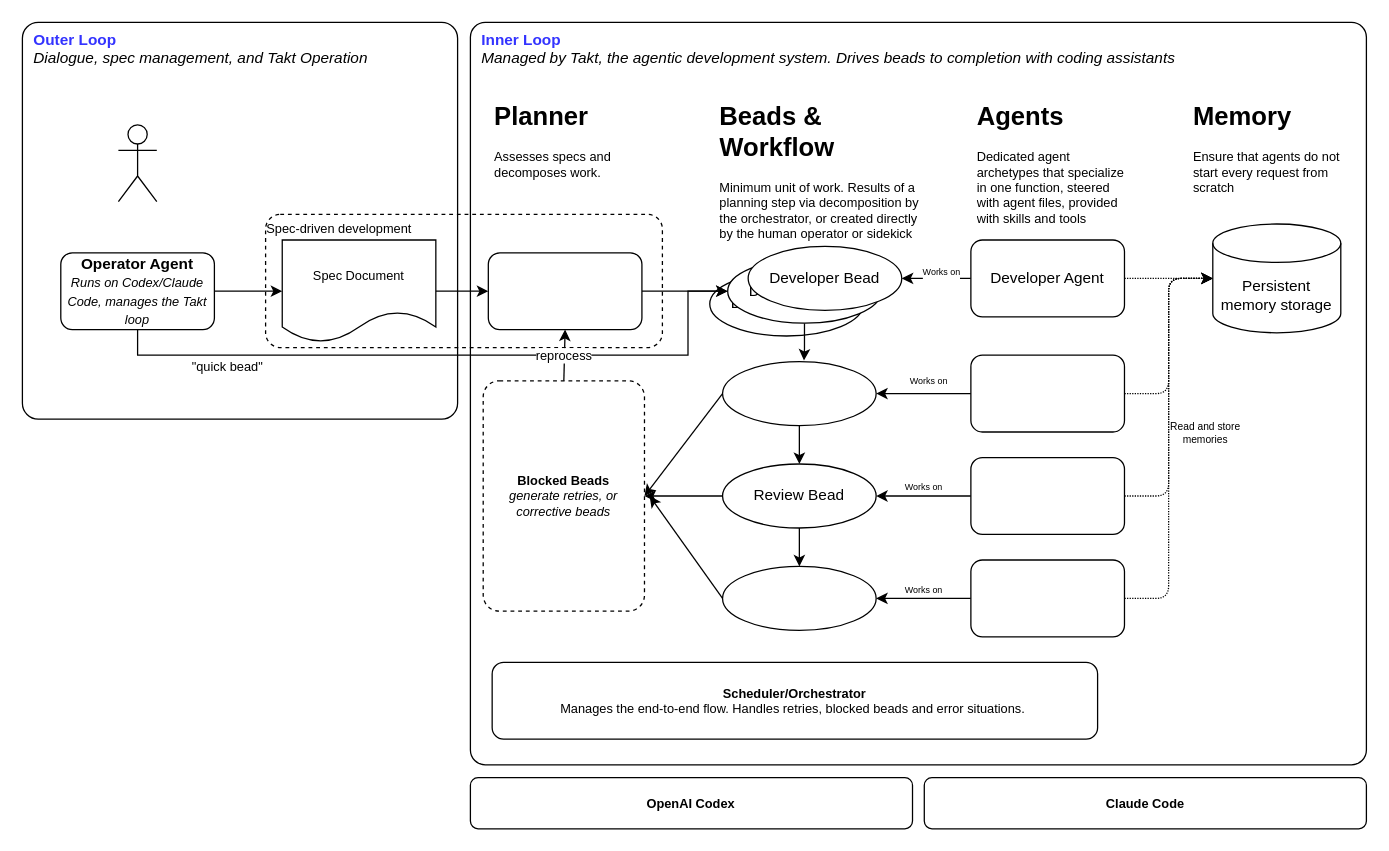
This 1389x851 diagram has some shape labels left out. Each missing label, with the centre of its shape:
Document Bead: the point at 798,597
Documenter Agent: the point at 1047,598
Me: the point at 137,163
Planner Agent: the point at 564,291
Reviewer Agent: the point at 1047,495
Test Bead: the point at 798,393
Tester Agent: the point at 1047,393
